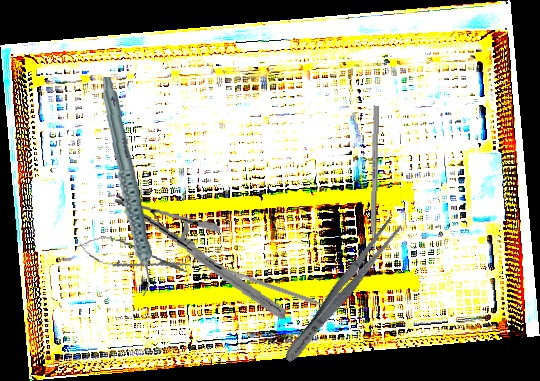Dressing Forceps: (278, 214, 405, 368)
Handpiece: (93, 77, 158, 296)
Micro Scissor: (76, 231, 194, 283)
Needle Holder: (104, 193, 297, 320)
Pusher: (370, 105, 379, 277)
Spatula Surgical: (224, 268, 337, 316)
